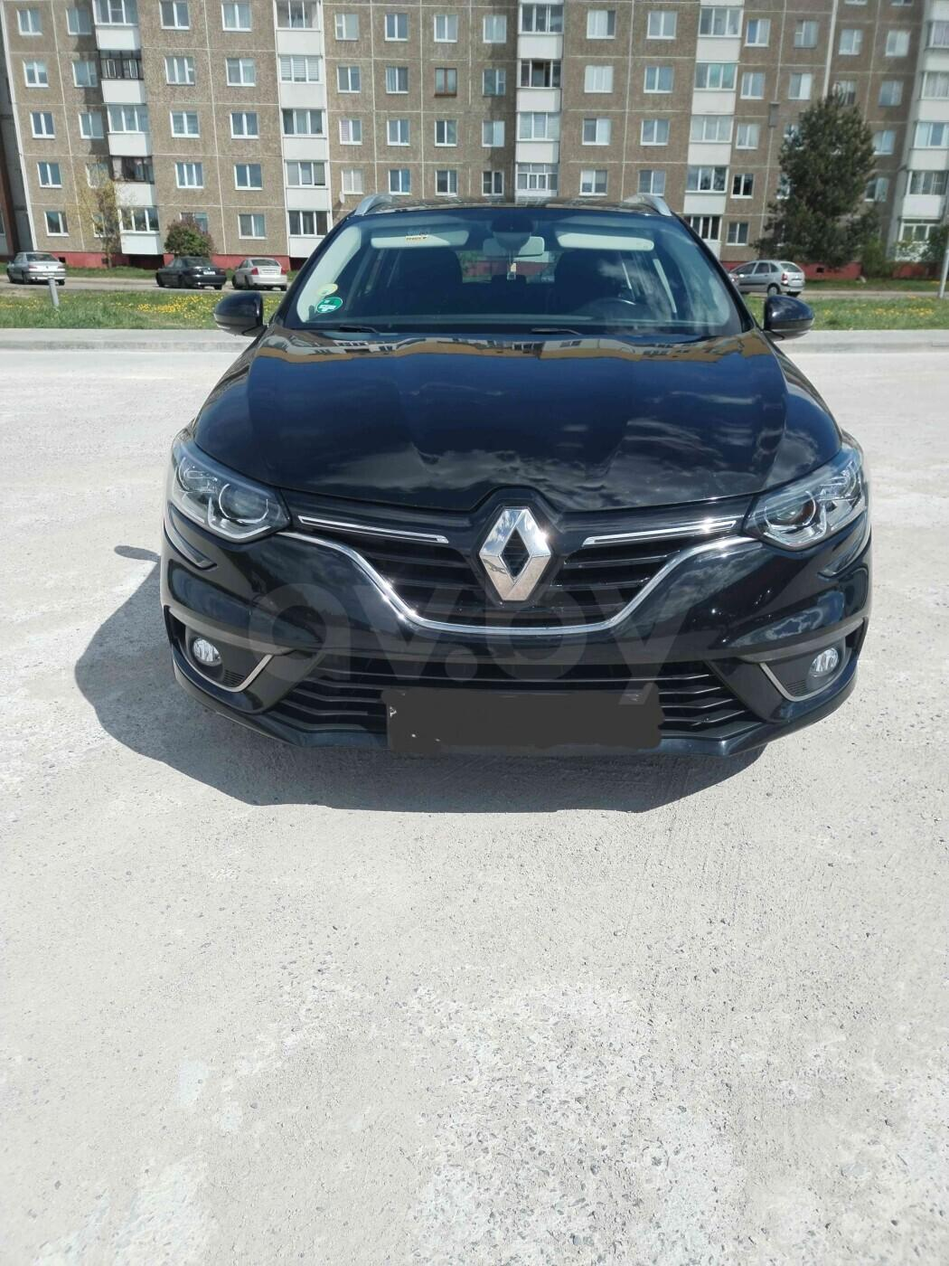Megane_2016-2020: (157, 177, 862, 774)
